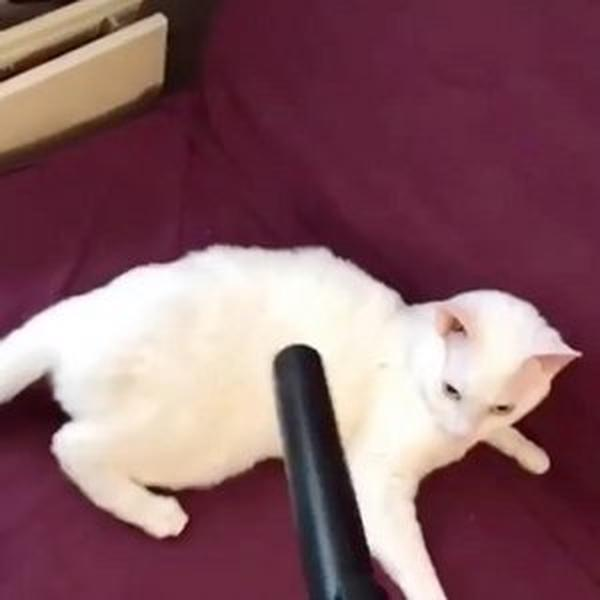michi: (3, 232, 589, 590)
